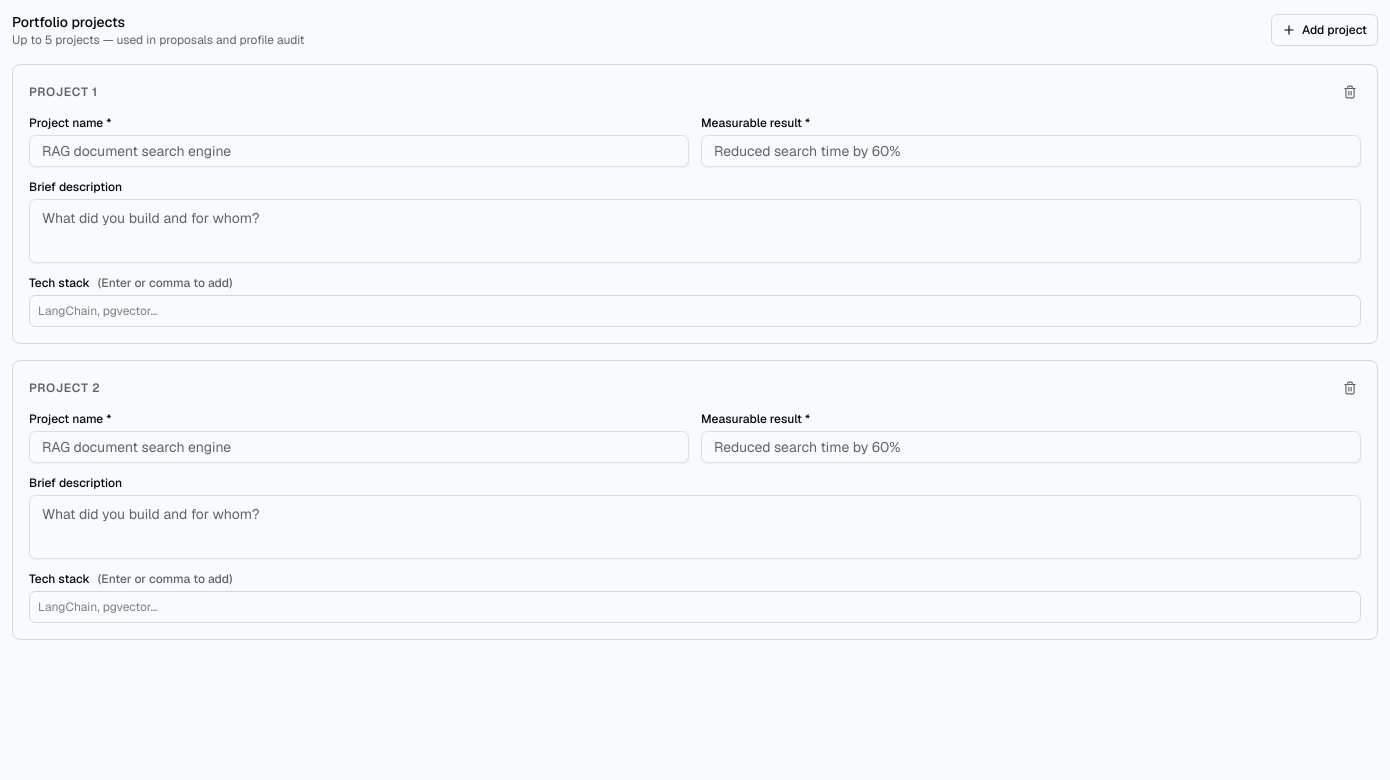
Test: PortfolioStep › removes a project
Expected: the text "Project 2" is shown, 29,380 -> 100,396
Click the button named "Remove project 1": coordinates (1350, 92) 1339,81 -> 1361,103
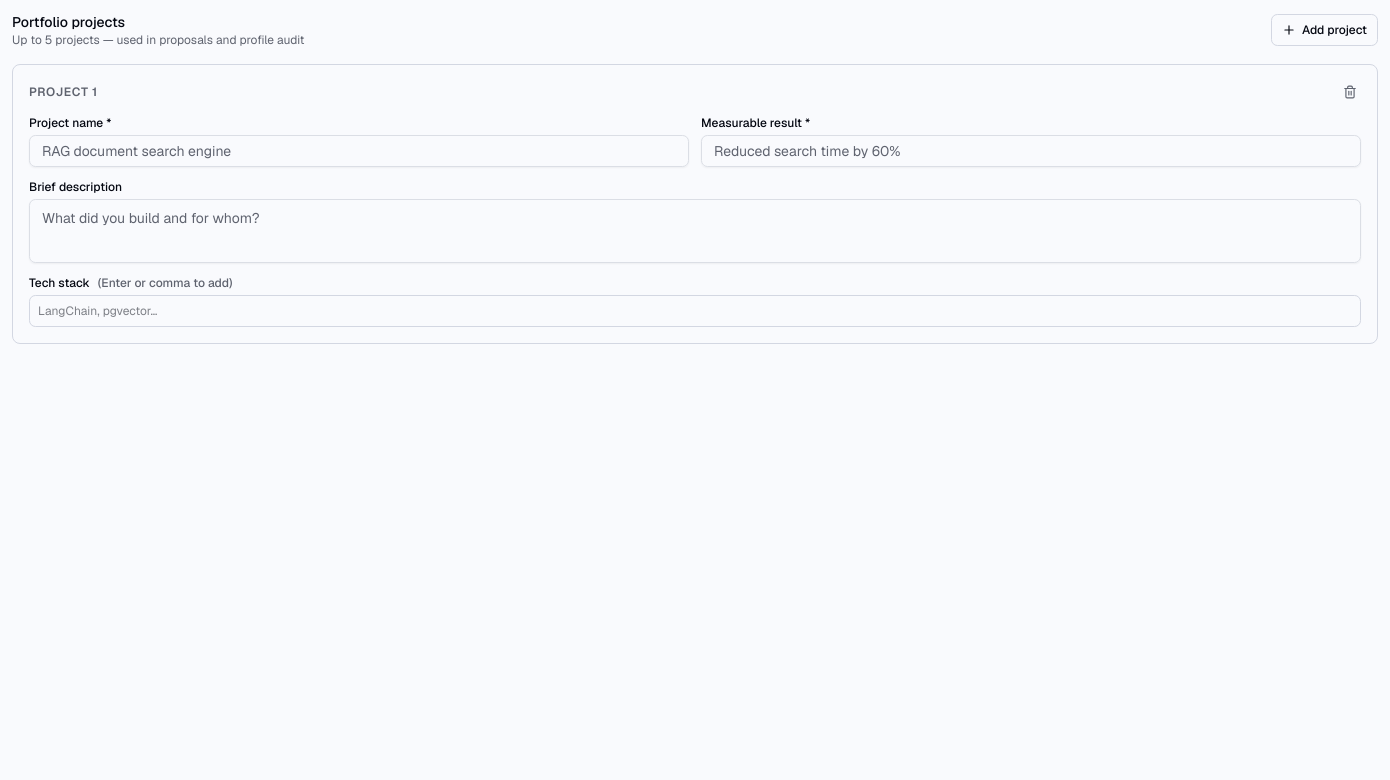
Expected: the text "Project 2" is gone
